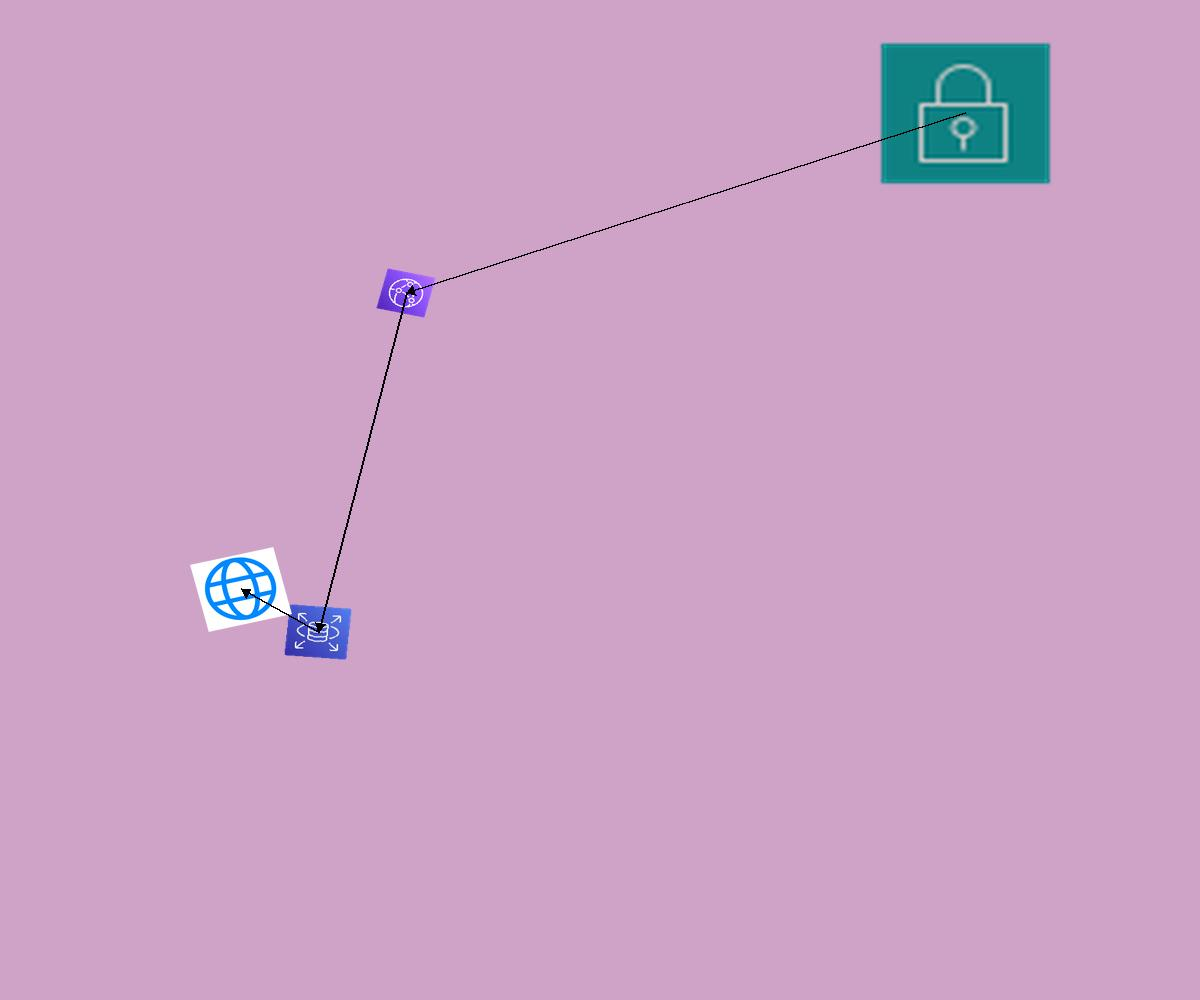AWS-CloudFront: (376, 268, 436, 318)
AWS-Private-subnet: (877, 40, 1054, 187)
AWS-RDS: (284, 604, 352, 660)
Azure_http: (190, 547, 292, 632)
